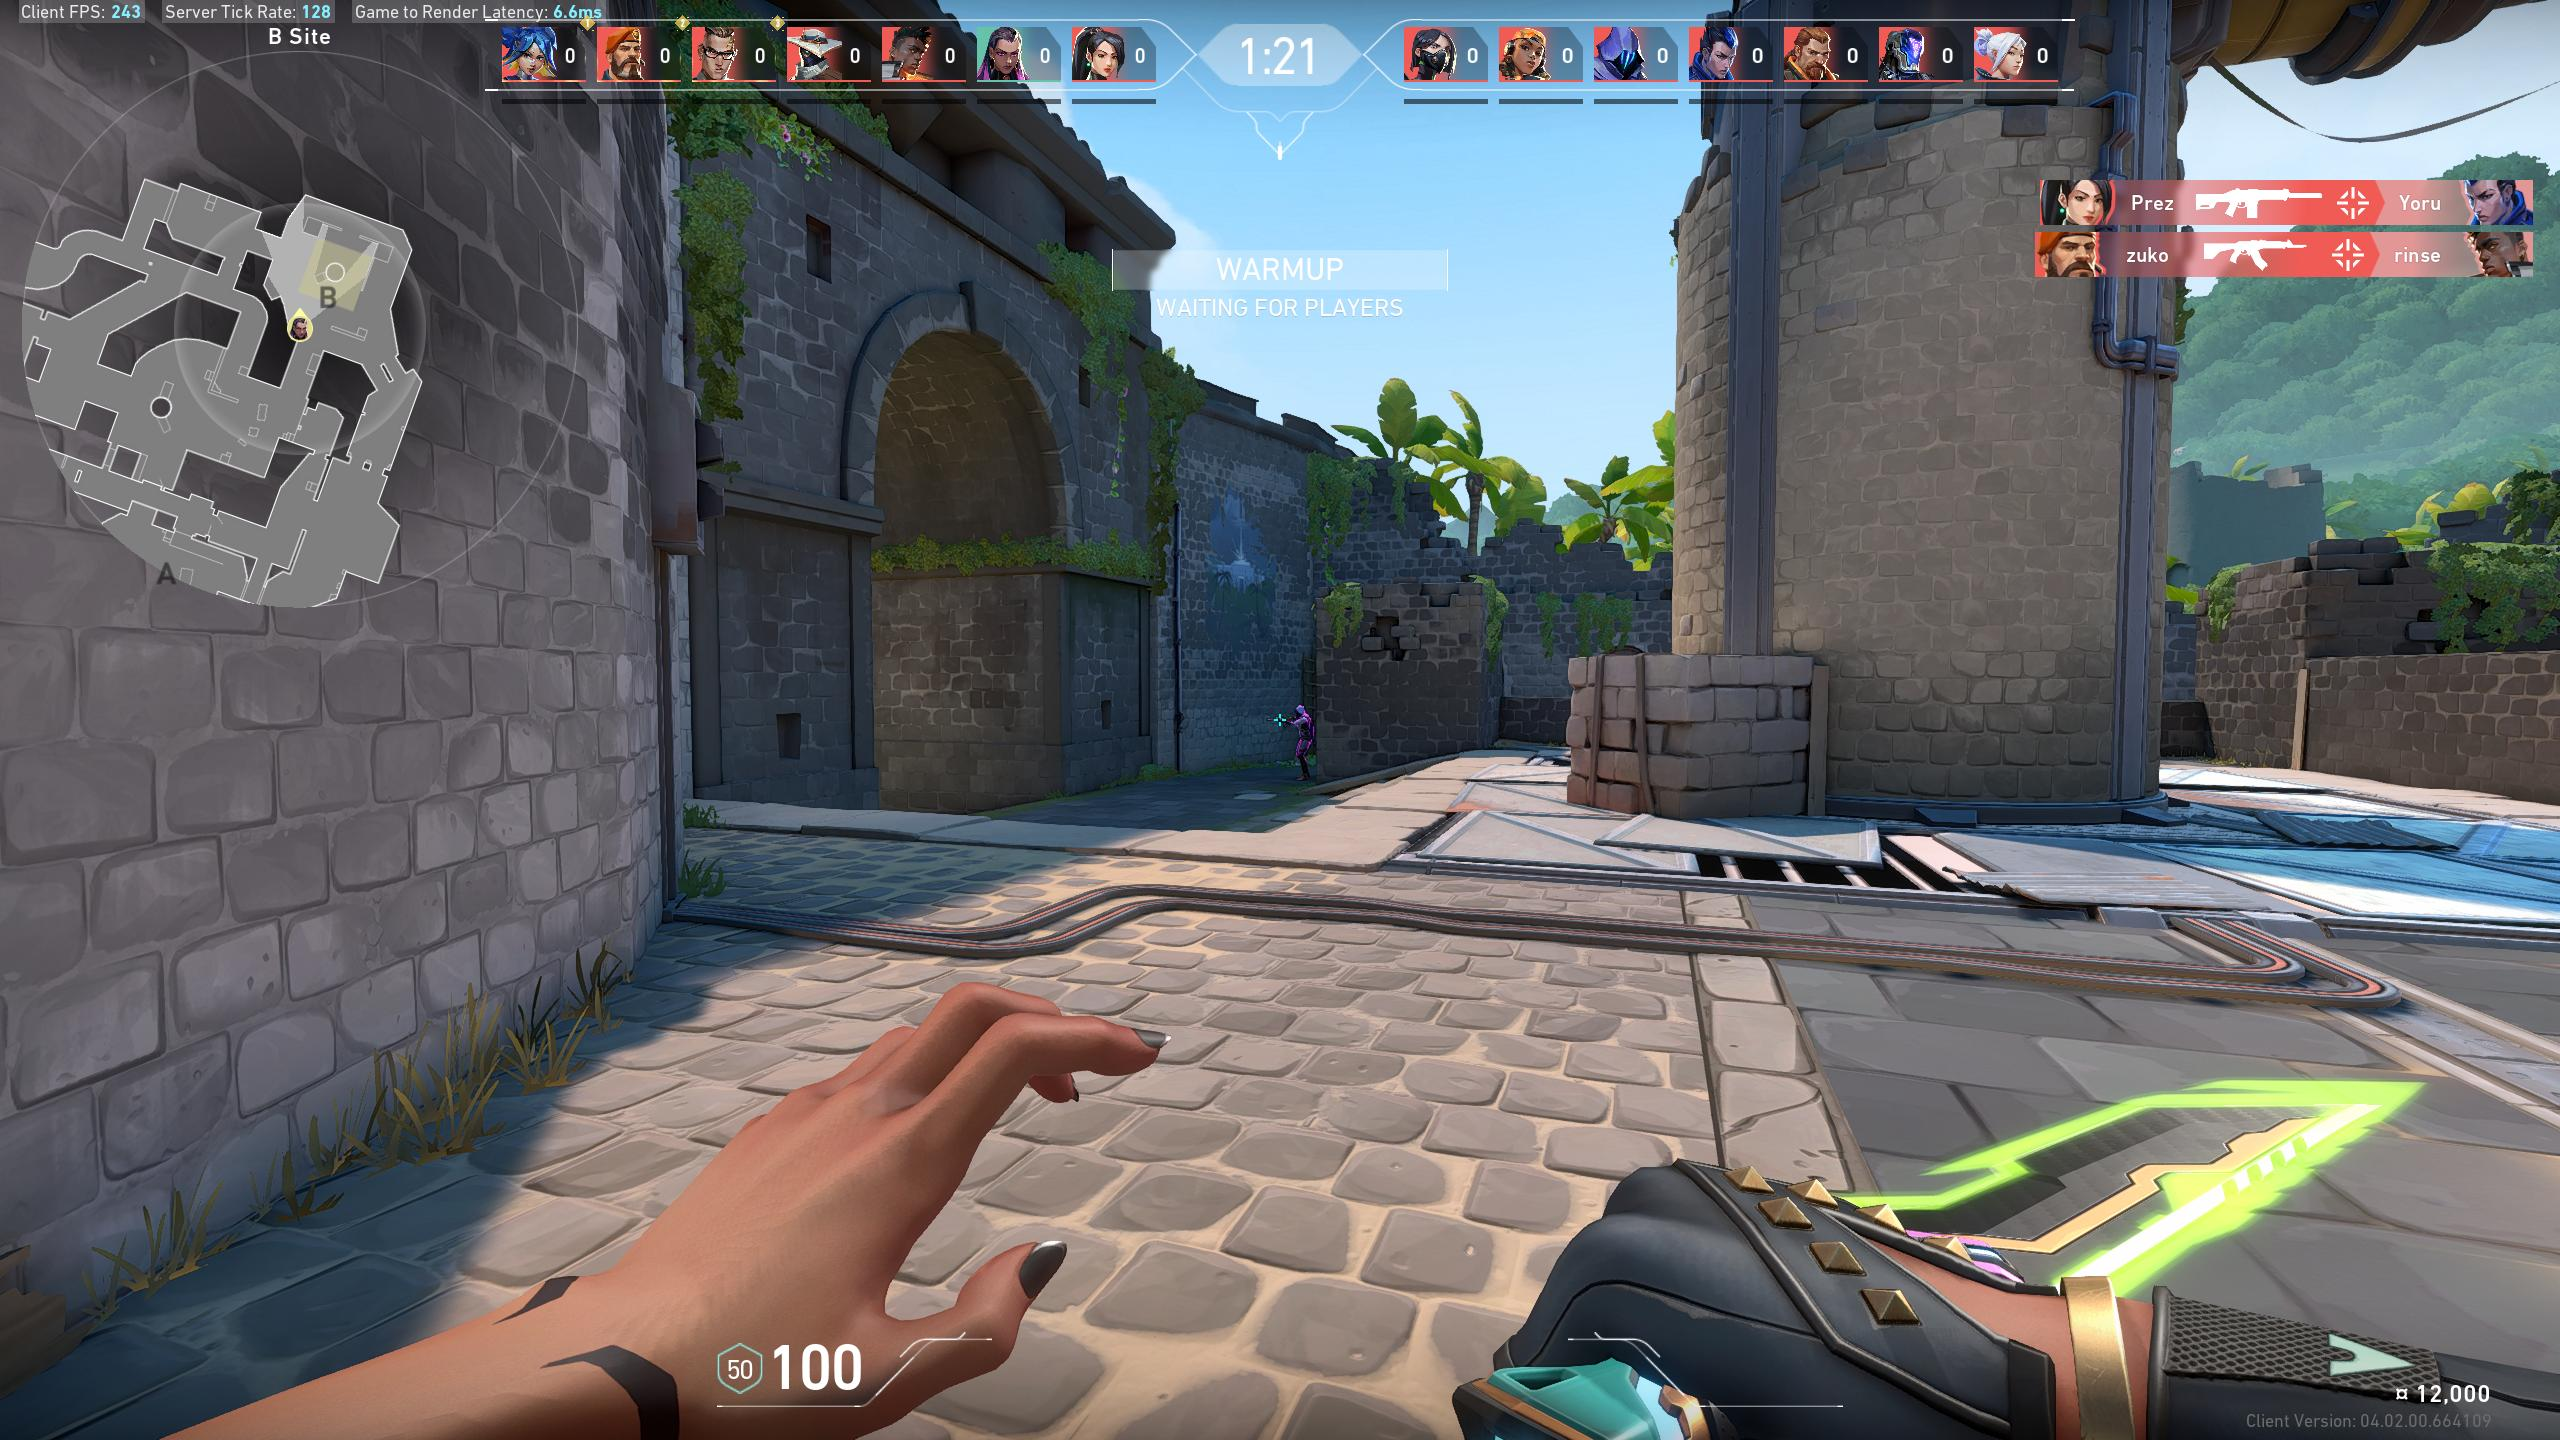enemyBody: (1299, 717, 1310, 737)
enemyHead: (1296, 709, 1303, 716)
